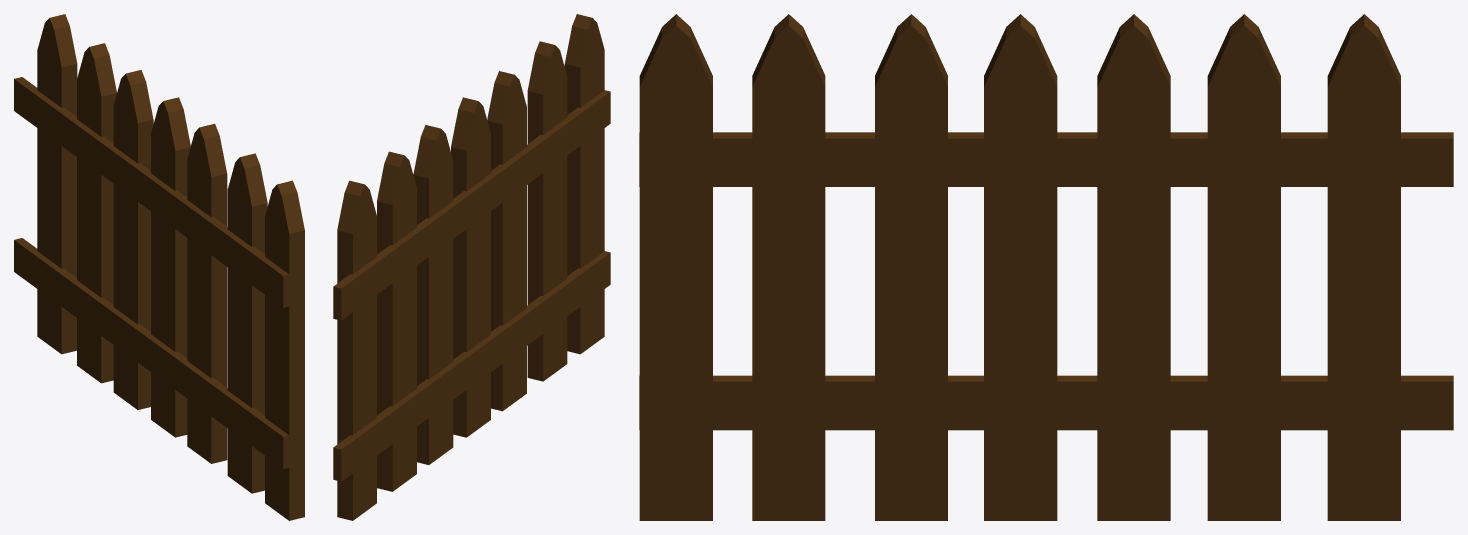
The model's file is fences 2.fbx.
The picture shows the model from 3 angles, left to right: view 1: azimuth 30°, elevation 25°; view 2: azimuth 150°, elevation 25°; view 3: azimuth 270°, elevation 25°; orthographic projection. The views are drawn at different scales.
Parts seen in each view (by area): view 1: Cube, Cube.008, Cube.007, Cube.002, Cube.006, Cube.001, Cube.004, Cube.005, Cube.003; view 2: Cube.007, Cube.008, Cube.001, Cube.006, Cube.005, Cube, Cube.003, Cube.004, Cube.002; view 3: Cube.001, Cube.003, Cube.004, Cube.005, Cube, Cube.006, Cube.002, Cube.008, Cube.007.
Boxes of the visible parts, x1=… form: Cube: x1=265, y1=180, x2=304, y2=520; Cube.008: x1=14, y1=238, x2=291, y2=468; Cube.007: x1=14, y1=77, x2=291, y2=307; Cube.002: x1=187, y1=123, x2=227, y2=463; Cube.006: x1=37, y1=14, x2=77, y2=354; Cube.001: x1=227, y1=153, x2=267, y2=493; Cube.004: x1=113, y1=70, x2=153, y2=409; Cube.005: x1=77, y1=43, x2=116, y2=383; Cube.003: x1=151, y1=97, x2=190, y2=437; Cube.007: x1=333, y1=90, x2=610, y2=320; Cube.008: x1=333, y1=251, x2=610, y2=481; Cube.001: x1=527, y1=41, x2=567, y2=381; Cube.006: x1=337, y1=180, x2=376, y2=520; Cube.005: x1=377, y1=151, x2=416, y2=491; Cube: x1=564, y1=14, x2=604, y2=354; Cube.003: x1=451, y1=97, x2=490, y2=437; Cube.004: x1=413, y1=125, x2=453, y2=464; Cube.002: x1=487, y1=71, x2=526, y2=411; Cube.001: x1=752, y1=14, x2=825, y2=520; Cube.003: x1=984, y1=14, x2=1057, y2=520; Cube.004: x1=1097, y1=14, x2=1170, y2=520; Cube.005: x1=1207, y1=14, x2=1280, y2=520; Cube: x1=639, y1=14, x2=712, y2=520; Cube.006: x1=1327, y1=14, x2=1400, y2=520; Cube.002: x1=875, y1=14, x2=947, y2=520; Cube.008: x1=639, y1=375, x2=1453, y2=430; Cube.007: x1=639, y1=132, x2=1453, y2=186.
Size of the model in its own units: 10.31 by 149 by 222.
